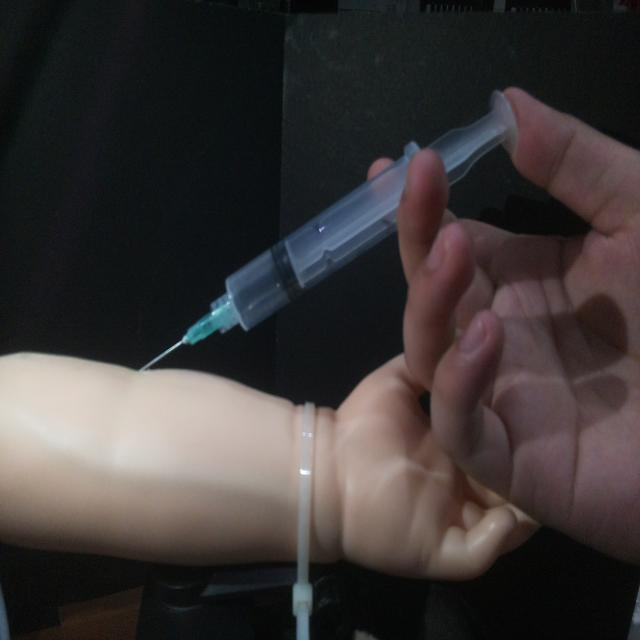27deg: (134, 85, 522, 374)
